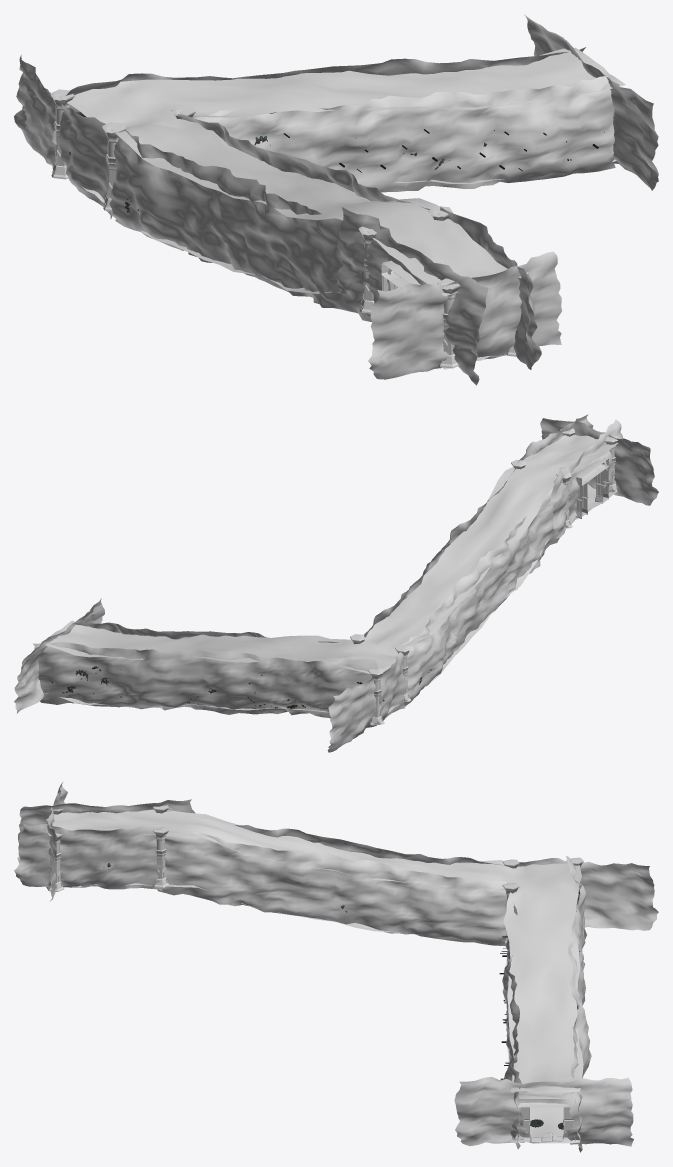
The model's file is BendyCorridor.FBX.
3 renders of one model, top to bottom at view 1: azimuth 30°, elevation 25°; view 2: azimuth 150°, elevation 25°; view 3: azimuth 270°, elevation 25°, orthographic. The views are drawn at different scales.
Visible parts, largest first — view 1: Plane002, LongWall002, LongWall004, Short Wall 007, Short Wall Hole3, Short Wall 008, Short Wall Hole004, LongWall001, LongWall003, Short Wall 006, Plane001, UnbrokenPillar004 (+4 smaller); view 2: Plane002, LongWall001, LongWall004, Short Wall 008, Short Wall 007, Short Wall Hole3, Short Wall Hole004, Plane001, DoorFrame004, LongWall002, LongWall003, Short Wall 006; view 3: Plane002, LongWall003, Short Wall Hole004, Short Wall 006, Short Wall 008, LongWall001, LongWall004, Short Wall Hole3, Plane001, LongWall002, DoorFrame003, Short Wall 007 (+1 smaller).
Boxes of the visible parts, left/top/right/bottom form: Plane002: left=67, top=47, right=625, bottom=295; LongWall002: left=193, top=76, right=615, bottom=192; LongWall004: left=109, top=130, right=371, bottom=321; Short Wall 007: left=368, top=251, right=561, bottom=379; Short Wall Hole3: left=336, top=207, right=488, bottom=385; Short Wall 008: left=14, top=55, right=112, bottom=219; Short Wall Hole004: left=524, top=14, right=658, bottom=190; LongWall001: left=52, top=47, right=585, bottom=144; LongWall003: left=178, top=114, right=430, bottom=209; Short Wall 006: left=440, top=206, right=541, bottom=369; Plane001: left=82, top=159, right=616, bottom=369; UnbrokenPillar004: left=50, top=89, right=74, bottom=179; Plane002: left=40, top=435, right=618, bottom=673; LongWall001: left=33, top=642, right=382, bottom=718; LongWall004: left=402, top=488, right=566, bottom=706; Short Wall 008: left=327, top=652, right=407, bottom=752; Short Wall 007: left=540, top=418, right=658, bottom=505; Short Wall Hole3: left=550, top=419, right=623, bottom=538; Short Wall Hole004: left=14, top=598, right=104, bottom=713; Plane001: left=44, top=484, right=616, bottom=712; DoorFrame004: left=575, top=457, right=608, bottom=518; LongWall002: left=72, top=622, right=338, bottom=642; LongWall003: left=364, top=467, right=515, bottom=637; Short Wall 006: left=518, top=414, right=593, bottom=462; Plane002: left=52, top=809, right=583, bottom=1092; LongWall003: left=157, top=831, right=506, bottom=946; Short Wall Hole004: left=454, top=1077, right=633, bottom=1146; Short Wall 006: left=14, top=823, right=163, bottom=890; Short Wall 008: left=517, top=858, right=658, bottom=930; LongWall001: left=566, top=856, right=591, bottom=1152; LongWall004: left=167, top=811, right=504, bottom=865; Short Wall Hole3: left=17, top=799, right=194, bottom=863; Plane001: left=90, top=883, right=579, bottom=1143; LongWall002: left=502, top=904, right=522, bottom=1149; DoorFrame003: left=517, top=1095, right=575, bottom=1142; Short Wall 007: left=46, top=782, right=67, bottom=901.
Bounding box in the file's own units: 73.28 × 98.76 × 30.91.
